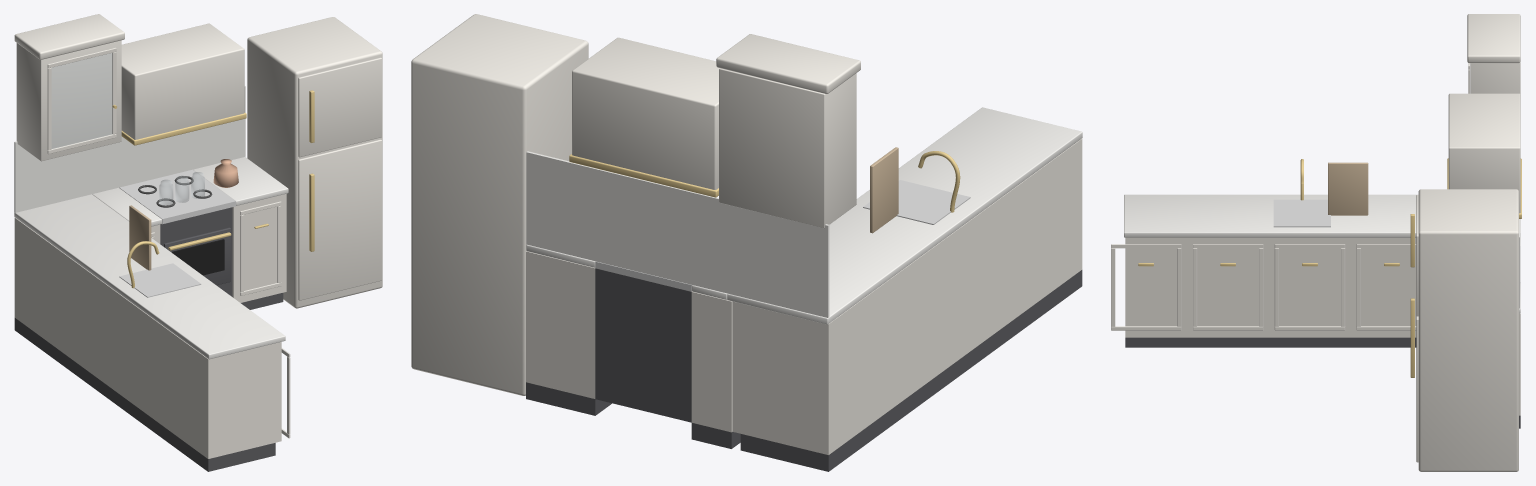
Rendered from kitchen_set.glb.
The picture shows the model from 3 angles, left to right: view 1: azimuth 30°, elevation 25°; view 2: azimuth 150°, elevation 25°; view 3: azimuth 270°, elevation 25°; orthographic projection. The views are drawn at different scales.
Visible parts, largest first — view 1: base_w, top_w, fridge, fridgedoor, hood, splash, upper, fridgedoor_top, uglass, base_n1, plinth_w, rangetop (+15 smaller); view 2: fridge, base_w, splash, top_w, upper, hood, range, base_n1, plinth_w, base_n0, ucornice, sink (+5 smaller); view 3: fridge, base_w, top_w, hood, plinth_w, ucornice, board, sink, upper, wd.001, wd.002, wd.003 (+2 smaller).
Part boxes in pixels (x1,y1,x2,y2): base_w: [14, 217, 281, 458]; top_w: [14, 194, 285, 359]; fridge: [247, 17, 382, 308]; fridgedoor: [298, 139, 381, 300]; hood: [121, 23, 244, 139]; splash: [14, 86, 245, 212]; upper: [16, 40, 121, 161]; fridgedoor_top: [298, 57, 381, 157]; uglass: [52, 53, 112, 148]; base_n1: [232, 193, 286, 302]; plinth_w: [14, 318, 275, 471]; rangetop: [119, 169, 235, 224]; fridge: [411, 14, 588, 395]; base_w: [732, 138, 1082, 454]; splash: [526, 151, 829, 317]; top_w: [727, 107, 1082, 324]; upper: [719, 68, 856, 228]; hood: [572, 37, 719, 189]; range: [595, 268, 691, 422]; base_n1: [526, 251, 595, 398]; plinth_w: [740, 270, 1082, 471]; base_n0: [691, 291, 732, 432]; ucornice: [716, 34, 860, 93]; sink: [863, 180, 970, 224]; fridge: [1418, 189, 1518, 471]; base_w: [1125, 237, 1416, 337]; top_w: [1124, 194, 1520, 237]; hood: [1448, 93, 1520, 213]; plinth_w: [1125, 337, 1416, 347]; ucornice: [1467, 14, 1520, 63]; board: [1328, 162, 1368, 215]; sink: [1273, 199, 1330, 227]; upper: [1470, 62, 1520, 94]; wd.001: [1274, 244, 1345, 330]; wd.002: [1193, 244, 1263, 330]; wd.003: [1111, 244, 1181, 330].
Bounding box in the file's own units: 2.61 × 2.31 × 2.86.
